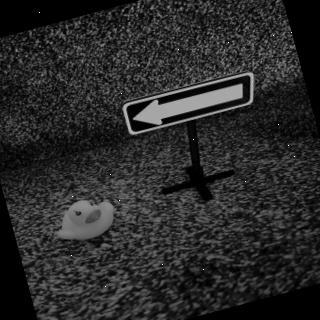duck_regular: (52, 193, 122, 248)
sign_oneway_left: (121, 68, 262, 138)
